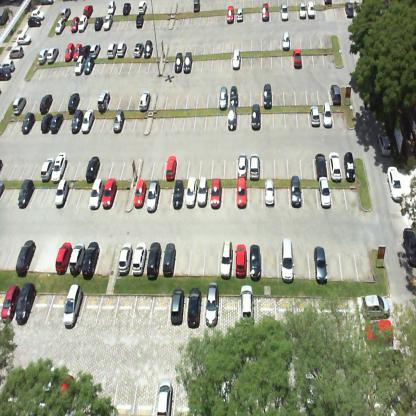car: (15, 282, 38, 327), (372, 348, 404, 378), (61, 289, 86, 326), (384, 383, 412, 415), (38, 364, 58, 408), (361, 290, 390, 319), (364, 321, 395, 348), (15, 238, 37, 276), (57, 370, 78, 409), (330, 368, 350, 408), (1, 285, 20, 324), (81, 240, 100, 279), (204, 282, 220, 328), (240, 282, 254, 328), (304, 370, 319, 412), (280, 238, 294, 282), (187, 287, 202, 328), (156, 380, 173, 416), (402, 225, 416, 268), (388, 163, 403, 203), (314, 244, 328, 286), (170, 289, 185, 327), (147, 240, 161, 280), (118, 241, 134, 276), (56, 240, 72, 275), (131, 242, 147, 276), (51, 152, 68, 184), (146, 176, 161, 212), (70, 243, 86, 276), (218, 375, 232, 412), (101, 177, 117, 209), (89, 178, 105, 210), (201, 377, 215, 413), (18, 178, 34, 209), (220, 239, 232, 280), (162, 242, 176, 276), (85, 155, 101, 184), (54, 179, 70, 208), (318, 174, 331, 208), (250, 243, 261, 282), (210, 177, 223, 210), (377, 130, 392, 158), (235, 244, 247, 279), (329, 149, 342, 181), (236, 176, 248, 210), (40, 157, 55, 184), (290, 174, 302, 207), (186, 174, 198, 207), (172, 177, 184, 210), (314, 150, 328, 178), (133, 178, 146, 208), (264, 177, 276, 209), (80, 106, 94, 133), (344, 150, 355, 183), (197, 176, 208, 208), (165, 155, 178, 182), (67, 90, 81, 115), (138, 88, 152, 113), (22, 111, 36, 135), (322, 98, 333, 128), (97, 89, 111, 112), (12, 93, 26, 115), (50, 112, 64, 134), (250, 152, 260, 182), (113, 110, 125, 135), (40, 113, 54, 134), (71, 109, 83, 133), (227, 104, 238, 130), (330, 81, 341, 107), (39, 94, 53, 114), (142, 37, 154, 59), (238, 152, 248, 178), (310, 103, 320, 129), (183, 50, 193, 74), (263, 84, 272, 110), (82, 56, 95, 74), (46, 46, 59, 64), (74, 54, 85, 75), (218, 86, 228, 109), (102, 12, 114, 31), (106, 41, 118, 60), (0, 57, 15, 72), (88, 42, 102, 58), (292, 48, 302, 70), (252, 102, 260, 129), (174, 50, 183, 74), (116, 40, 128, 58), (37, 47, 49, 65), (64, 42, 74, 63), (72, 42, 83, 61), (16, 32, 32, 45), (8, 46, 24, 59), (232, 48, 241, 71), (54, 17, 66, 34), (260, 2, 270, 22), (230, 84, 239, 106), (226, 4, 235, 26), (133, 42, 144, 60), (78, 12, 87, 34), (30, 8, 44, 21), (27, 16, 42, 28), (307, 1, 316, 20), (280, 3, 289, 22), (344, 2, 354, 19), (135, 12, 145, 29), (0, 67, 12, 81), (60, 5, 71, 20), (298, 2, 307, 20), (70, 17, 80, 33), (136, 0, 147, 14), (107, 0, 117, 15), (94, 16, 104, 31), (282, 30, 289, 50), (121, 2, 131, 16), (83, 4, 93, 18), (192, 0, 201, 15), (80, 44, 90, 57), (236, 7, 244, 22)
